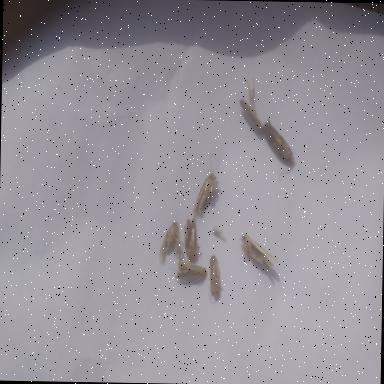pbw: (260, 116, 298, 182), (191, 148, 222, 218), (238, 75, 266, 134), (239, 232, 278, 272), (157, 219, 180, 267), (168, 258, 208, 282), (182, 212, 202, 260), (208, 254, 223, 300), (212, 226, 228, 240)
